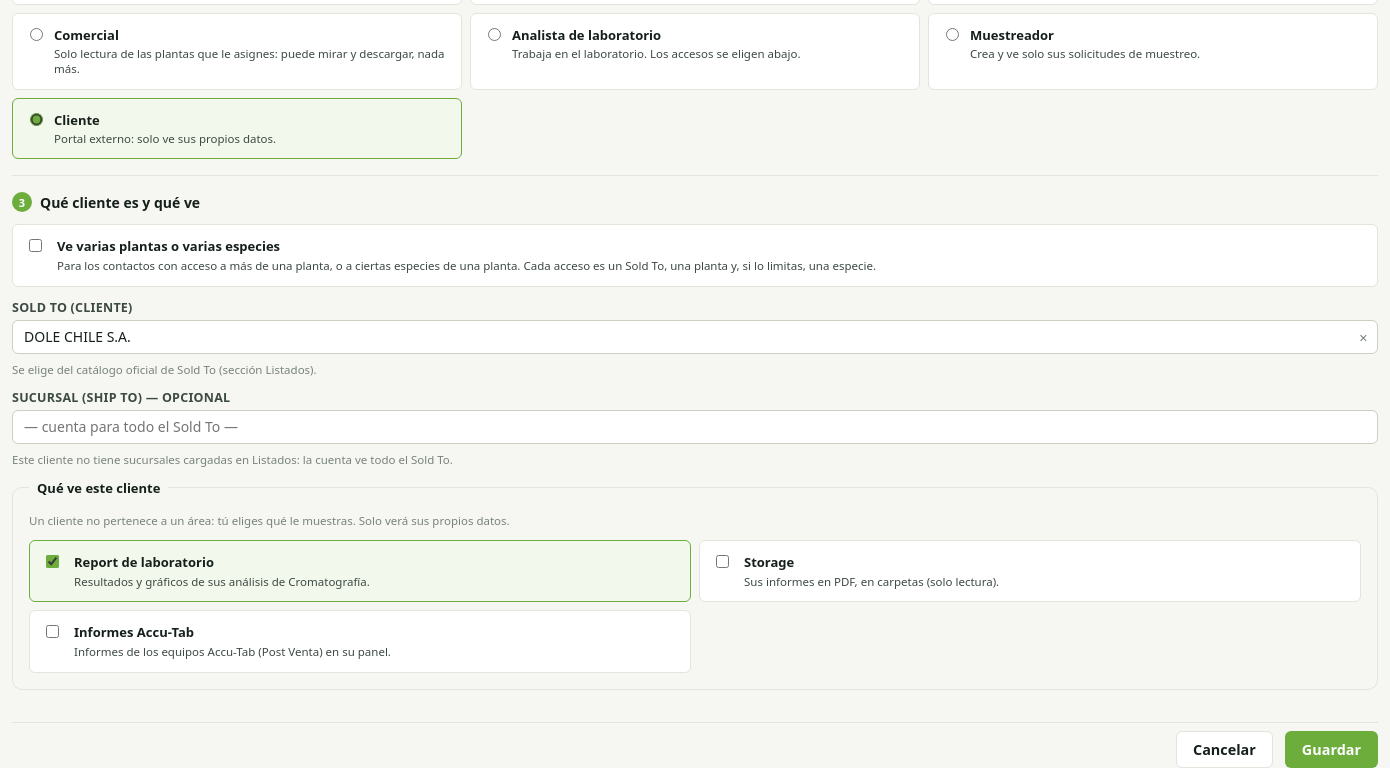
Test: UsuarioForm: permisos por categoría y funciones sueltas › no deja guardar un cliente sin nada que ver
This screenshot has width=1390, height=768.
(page scrolled)
Click the checkbox labelled "Report de laboratorio".
click(52, 561)  # box [46,555,59,568]
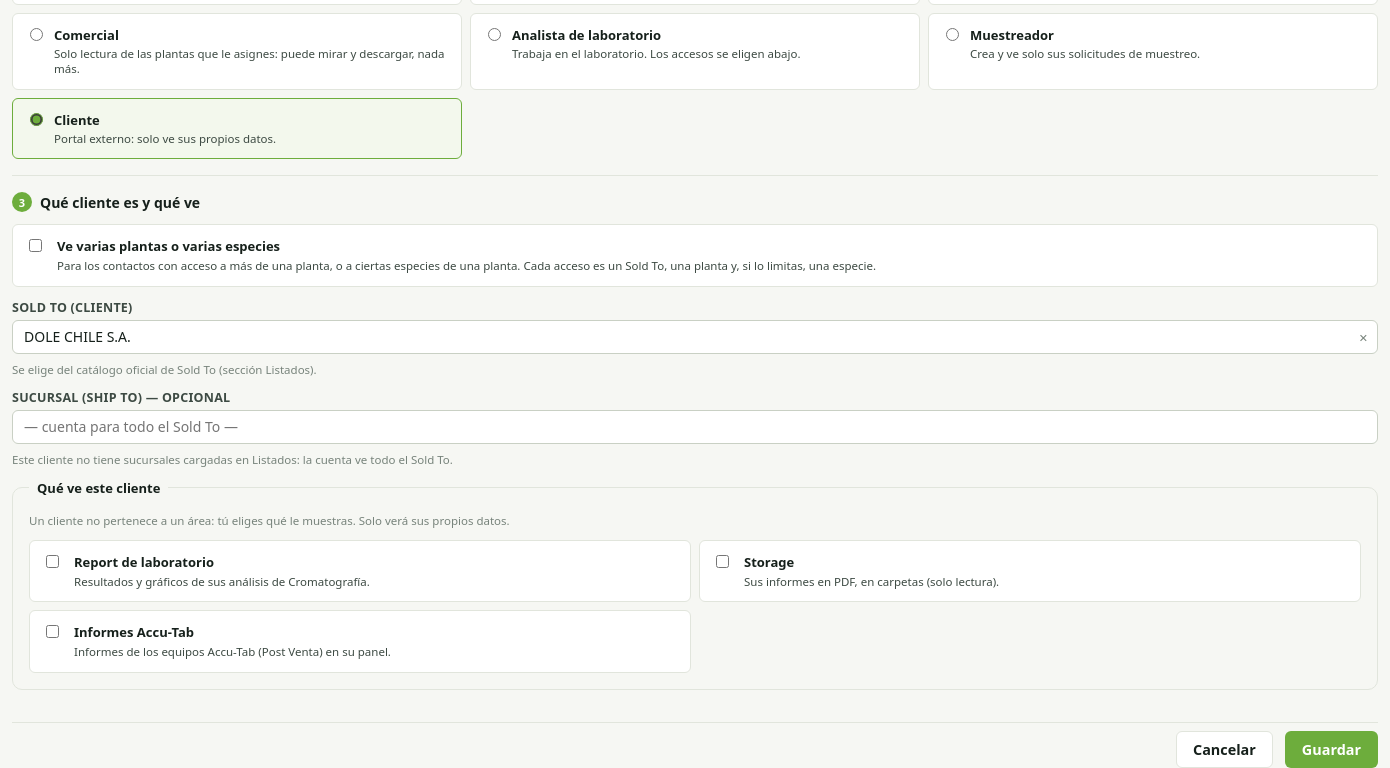
Click the button "Guardar".
click(1331, 749)  # box [1285,731,1378,767]
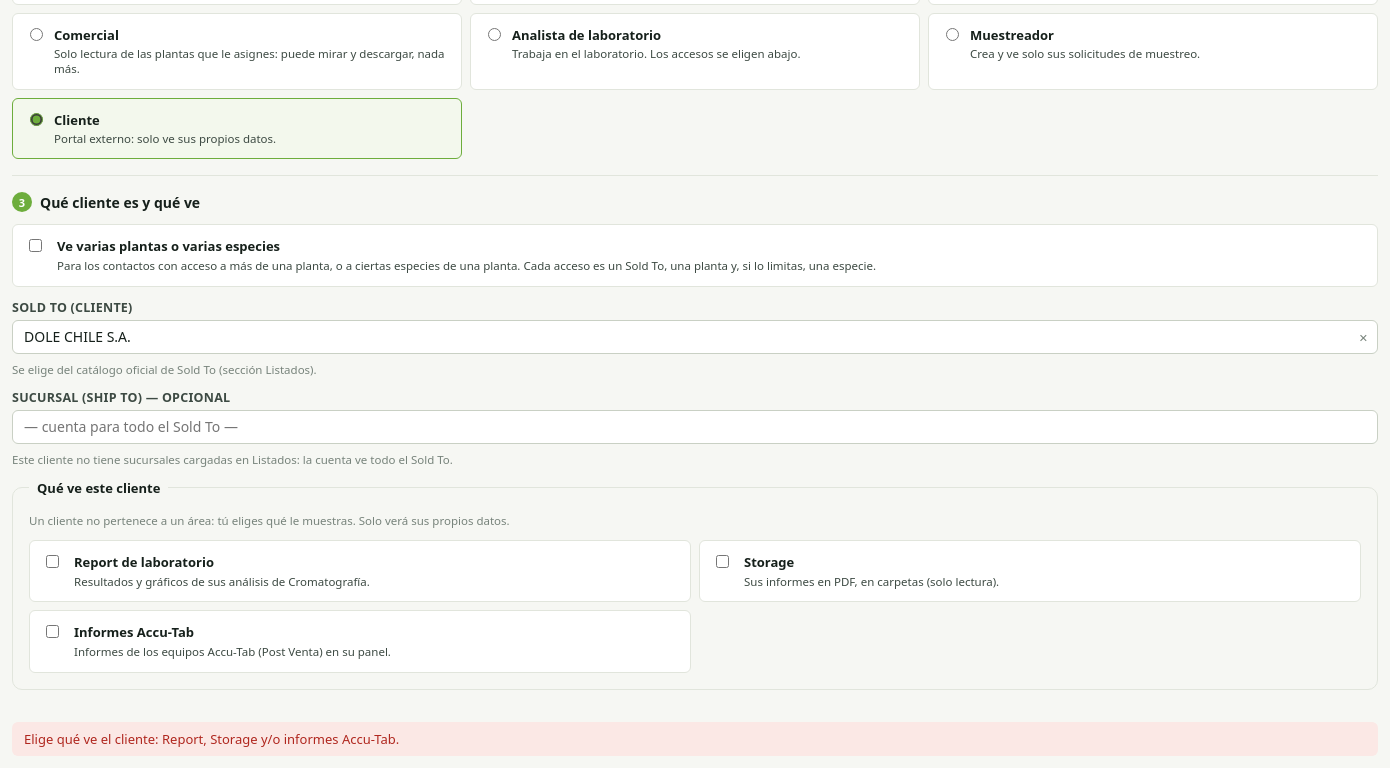
Result: the text "Elige qué ve el cliente" is shown at [24,730,399,748]
